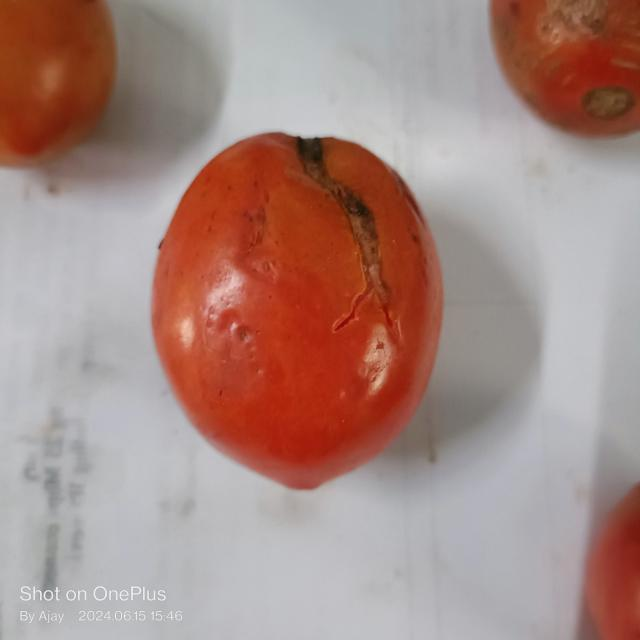Botrytis: (297, 128, 391, 338)
